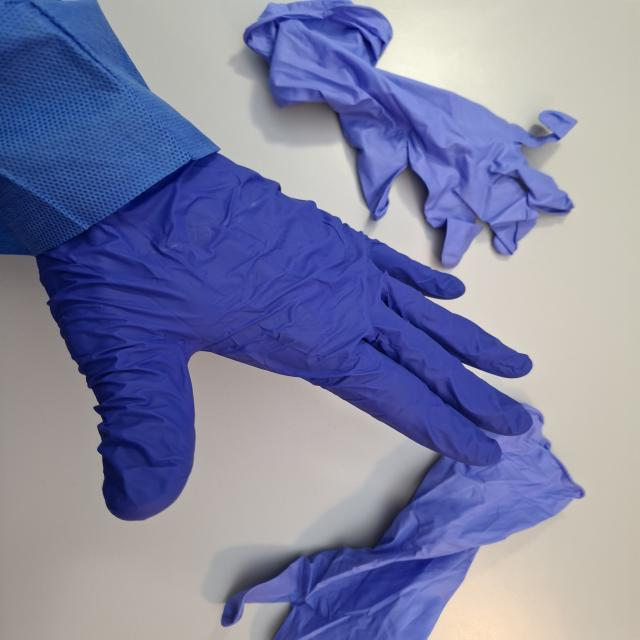glove_on: (26, 146, 538, 523)
